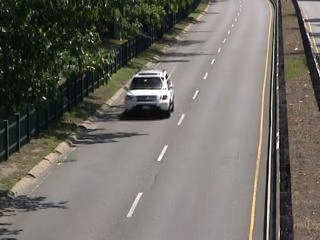car: (122, 66, 180, 120)
